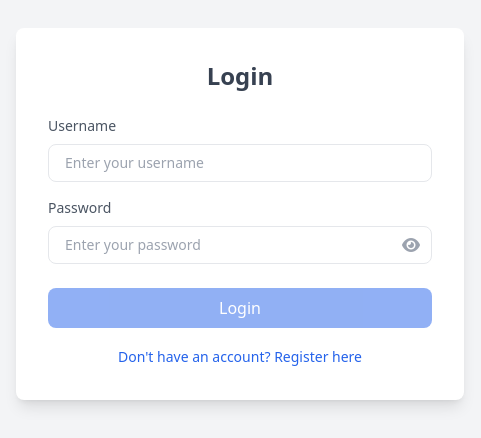
Login Page › Form Validation › should show validation error for short password
Type "pass" into the password field named "password".
click(240, 245); type("pass")  # box [48,226,432,264]
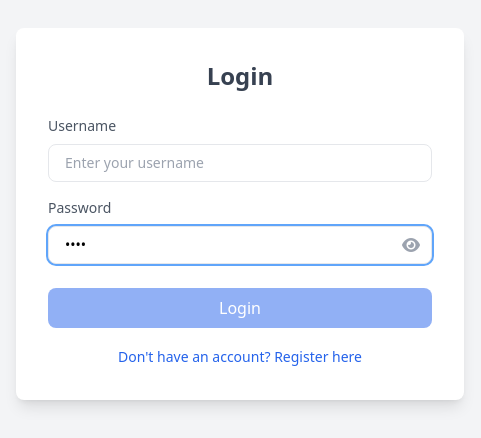
Leave the password field named "password", box [48,226,432,264]
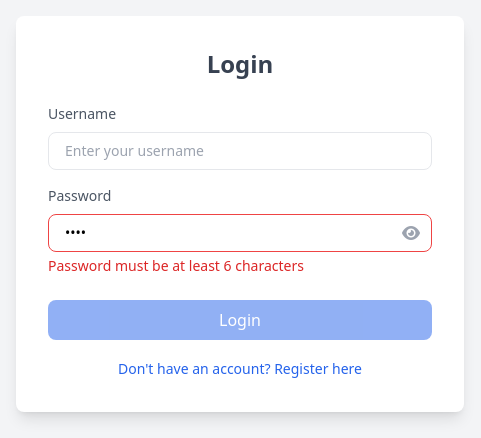
Expected: the text "Password must be at least 6 characters" is shown, [48,256,304,275]
